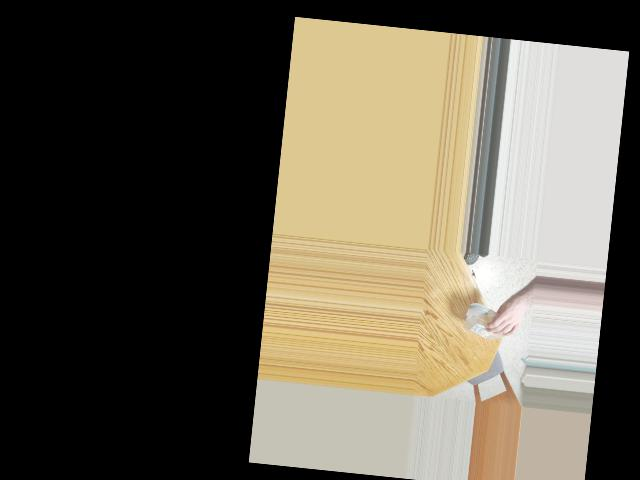cheese: (465, 304, 507, 342)
